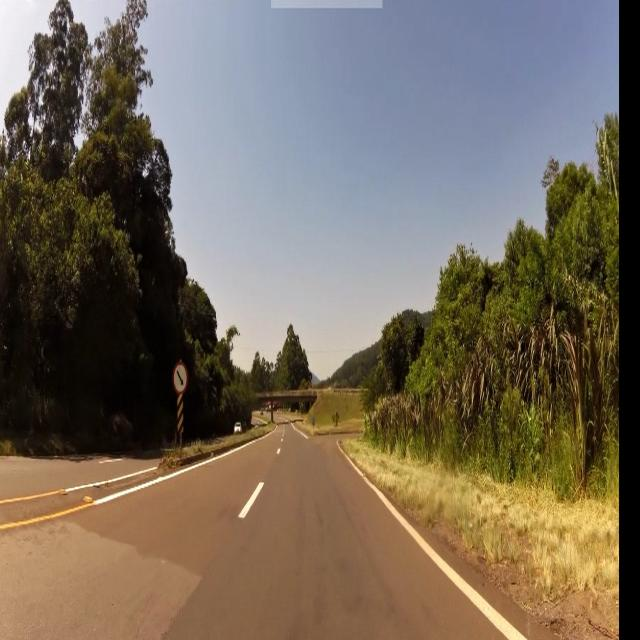R-24b: (174, 362, 186, 392)
